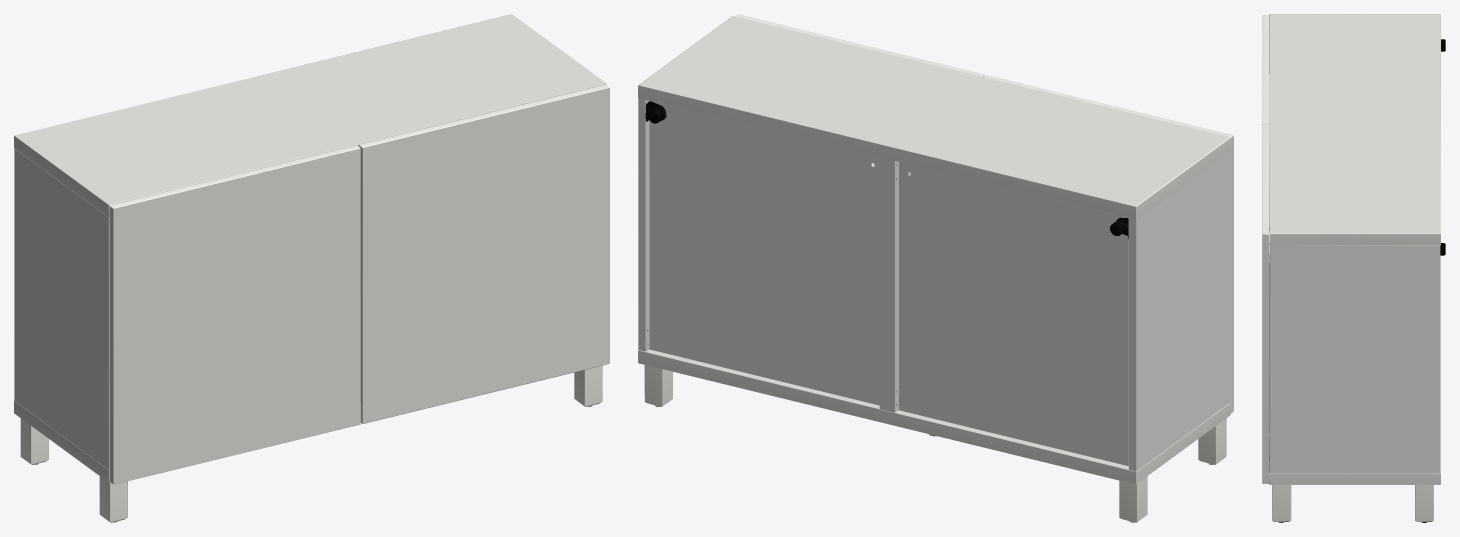
3 views of the same model, side by side, from view 1: azimuth 30°, elevation 25°; view 2: azimuth 150°, elevation 25°; view 3: azimuth 270°, elevation 25° (orthographic). The views are drawn at different scales.
Visible parts, largest first — view 1: Mesh_0; view 2: Mesh_0; view 3: Mesh_0.
Part boxes in pixels (x1=…): Mesh_0: x1=14, y1=14, x2=609, y2=522; Mesh_0: x1=638, y1=14, x2=1233, y2=522; Mesh_0: x1=1262, y1=14, x2=1445, y2=522.
Bounding box in the file's own units: 1.2 × 0.7451 × 0.4232.
Materials: 1 (1 with a texture image).
